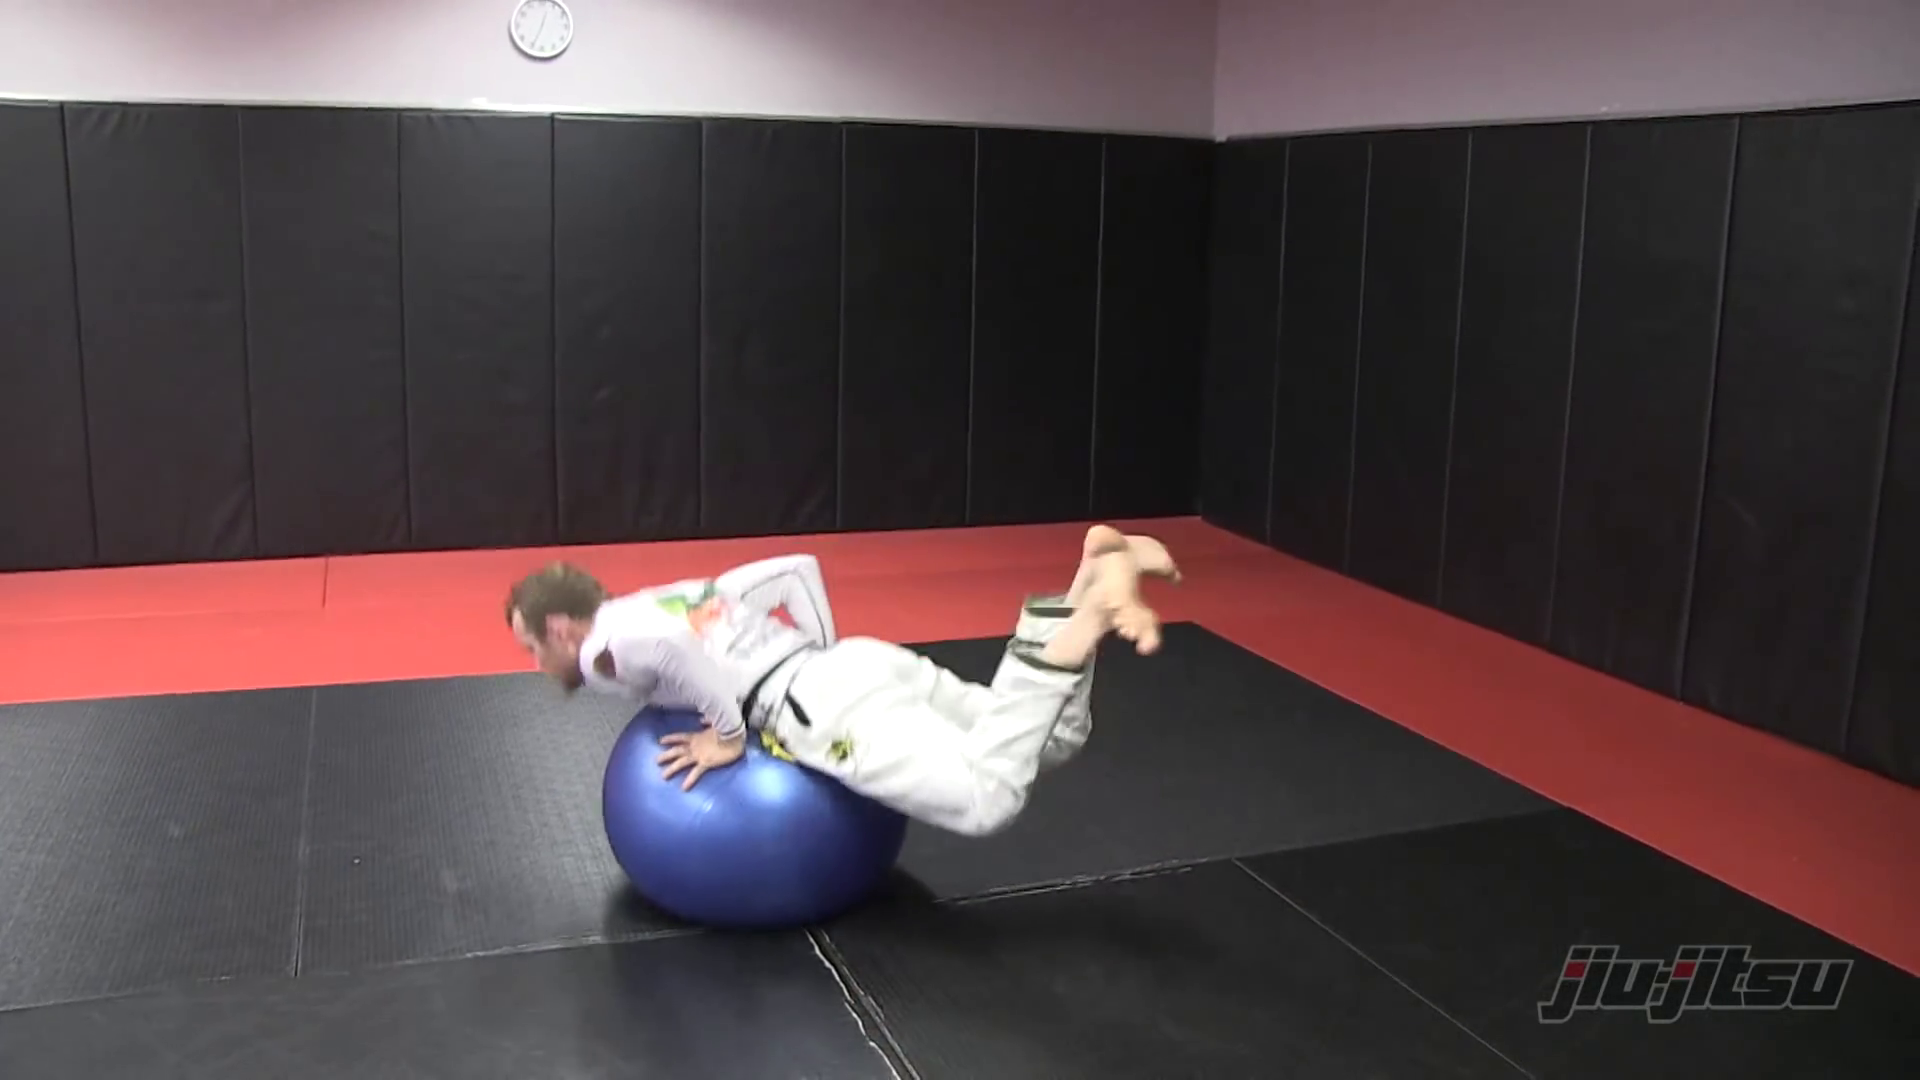yogaball: (595, 688, 930, 945)
